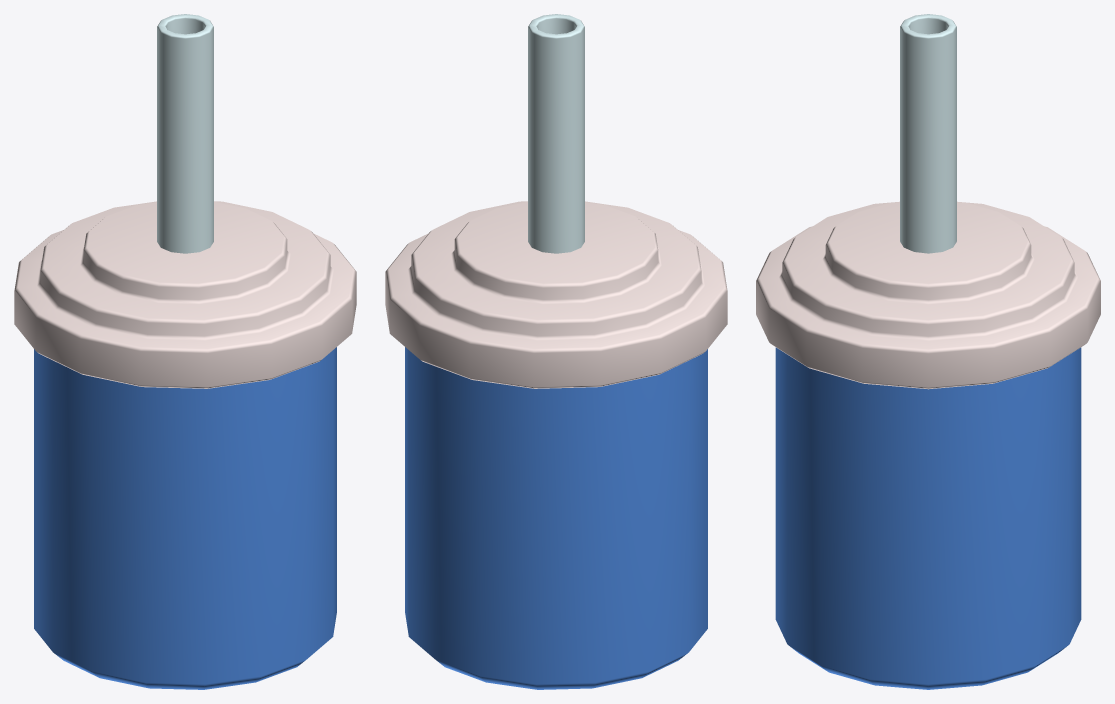
File: Soda_Cup_with_Straw_1.fbx
3 renders of one model, left to right at view 1: azimuth 30°, elevation 25°; view 2: azimuth 150°, elevation 25°; view 3: azimuth 270°, elevation 25°, orthographic.
Parts seen in each view (by area): view 1: Soda_Cup_with_Straw_1; view 2: Soda_Cup_with_Straw_1; view 3: Soda_Cup_with_Straw_1.
Part boxes in pixels (x1,y1,x2,y2): Soda_Cup_with_Straw_1: (14, 14, 356, 689); Soda_Cup_with_Straw_1: (385, 14, 727, 689); Soda_Cup_with_Straw_1: (756, 14, 1100, 689).
Bounding box in the file's own units: 14.37 × 27.83 × 14.37.
